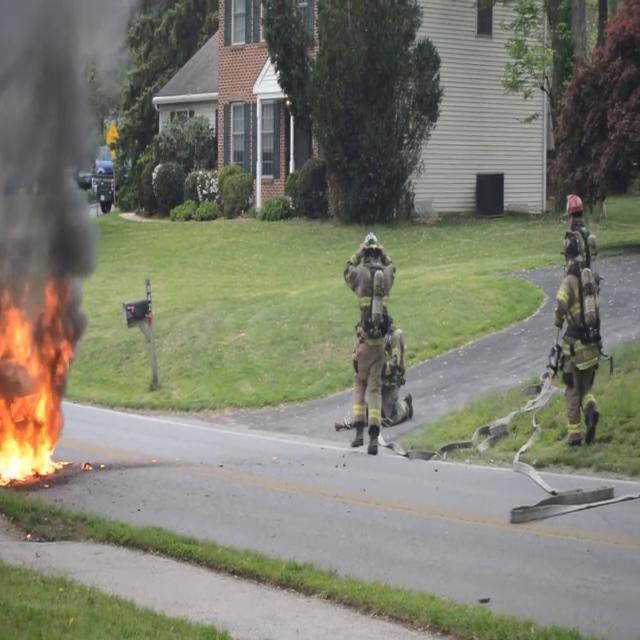Fire: (0, 299, 72, 489)
Smoke: (0, 1, 110, 338)
